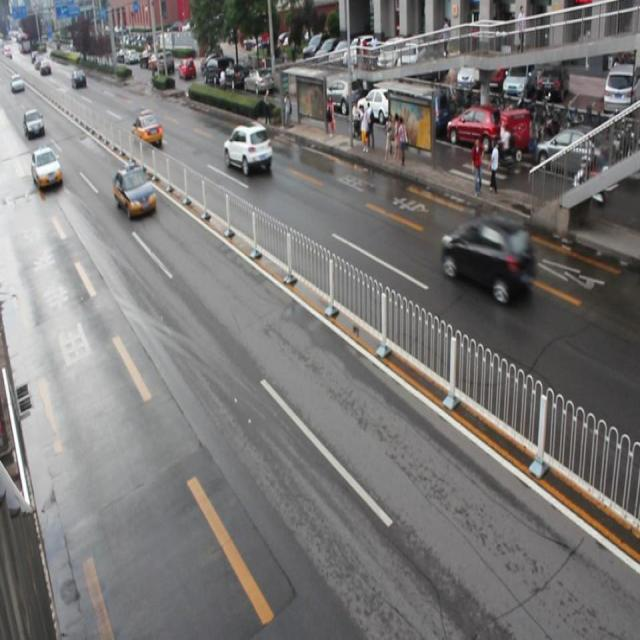car: (440, 214, 531, 304), (223, 120, 272, 175), (113, 163, 158, 219), (30, 146, 63, 191), (130, 111, 163, 150)
